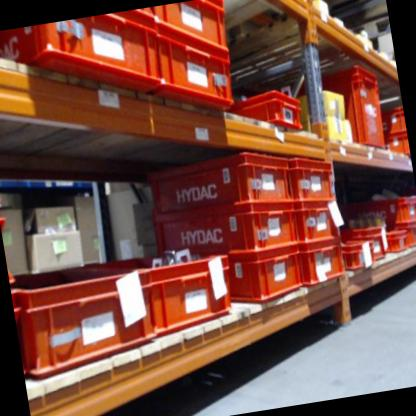pallet: (222, 0, 309, 40), (334, 14, 392, 49)
small_load_carrier: (2, 7, 160, 110), (15, 264, 159, 377), (148, 150, 297, 233), (111, 246, 238, 339), (151, 204, 302, 276), (147, 29, 234, 121), (319, 58, 393, 157), (149, 0, 231, 64), (222, 249, 308, 309), (229, 89, 302, 137), (286, 149, 340, 211), (300, 236, 351, 289), (353, 194, 416, 233), (295, 200, 345, 249), (345, 224, 387, 260), (342, 236, 379, 276), (11, 288, 28, 374), (0, 210, 17, 284), (381, 224, 416, 254), (382, 228, 411, 254), (383, 107, 405, 135), (387, 133, 410, 159)
